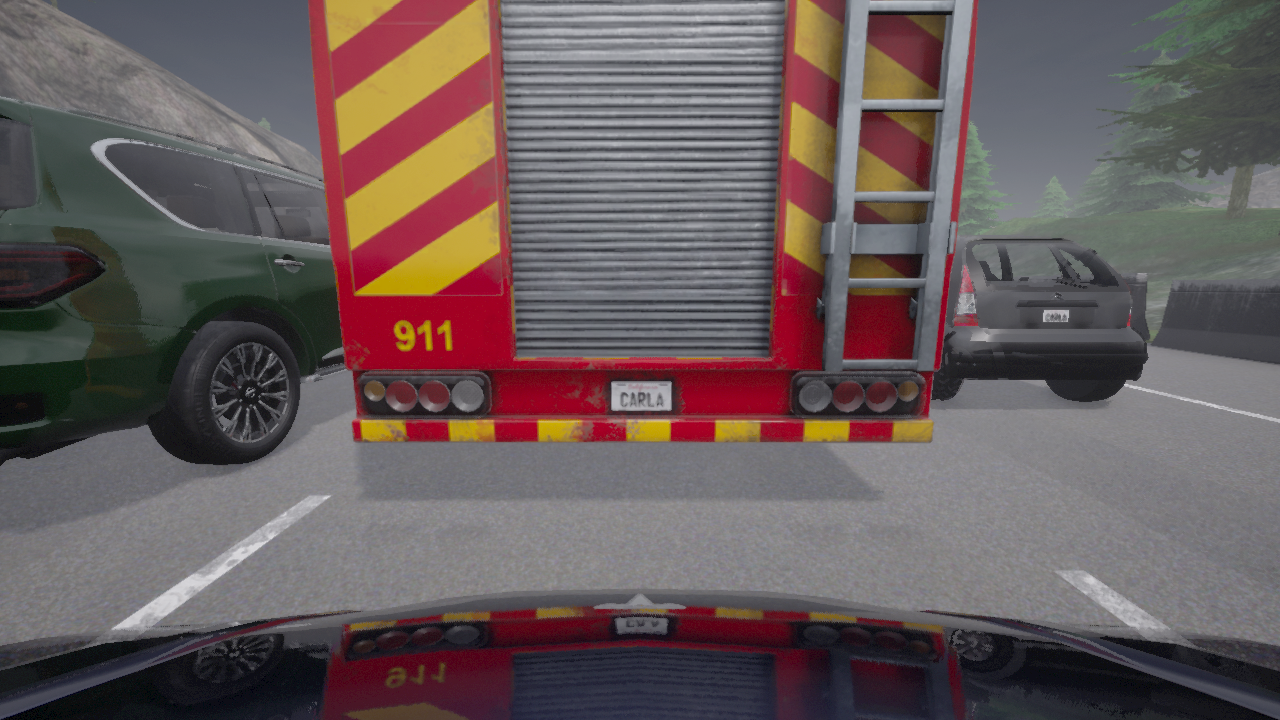cyclist: (308, 0, 978, 442), (0, 588, 1279, 719), (931, 233, 1147, 400)
